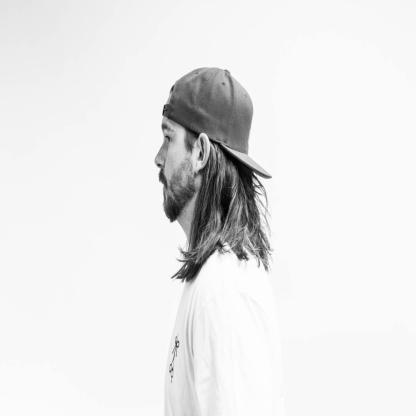cap: (158, 63, 274, 187)
